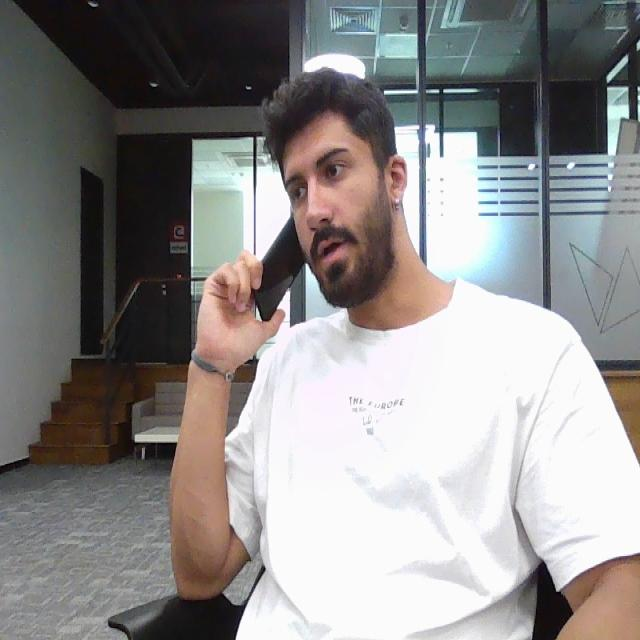phone: (250, 224, 304, 320)
